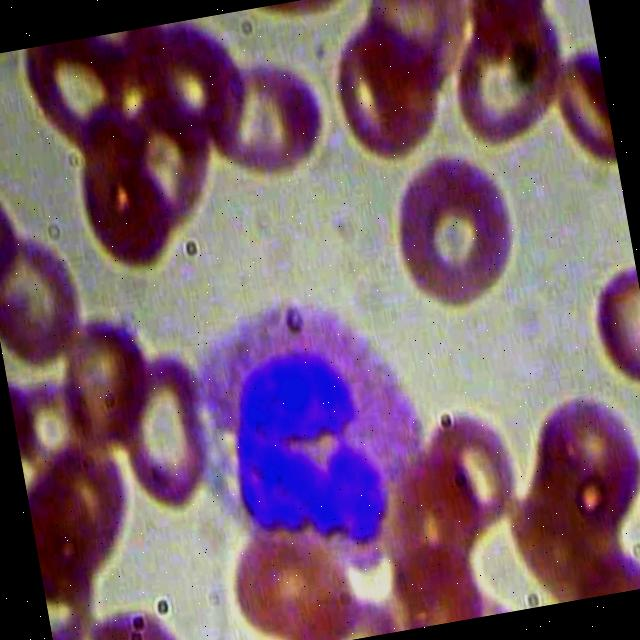RBC: (382, 143, 536, 320), (318, 2, 462, 174), (430, 0, 574, 151), (105, 341, 222, 513), (190, 44, 332, 182), (15, 31, 140, 160), (0, 223, 88, 369), (578, 254, 640, 390)
WBC: (162, 264, 448, 598)
